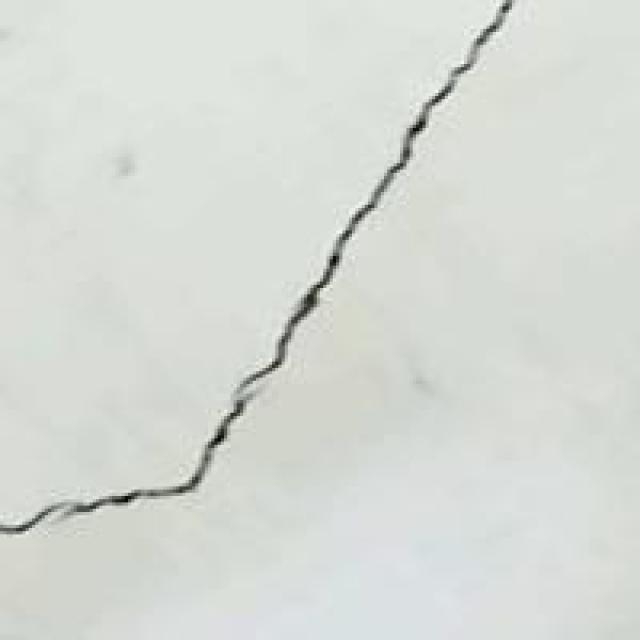Crack: (0, 1, 515, 532)
